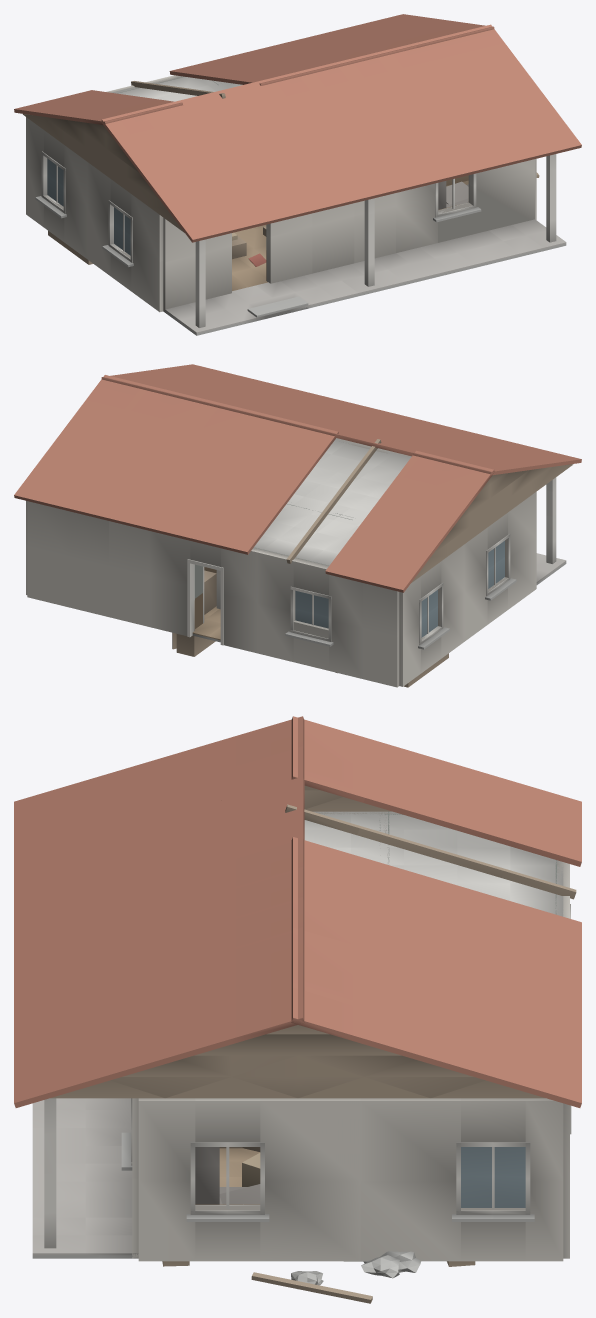
The model's file is casa_r10.glb.
3 renders of one model, top to bottom at view 1: azimuth 30°, elevation 25°; view 2: azimuth 150°, elevation 25°; view 3: azimuth 270°, elevation 25°, orthographic. The views are drawn at different scales.
Visible parts, largest first — view 1: longe, ext, dentro, detalhe, cama_quarto11; view 2: longe, ext, dentro, detalhe, guarda_roupa_quarto2; view 3: longe, ext, dentro, detalhe, cama_quarto11.
Boxes of the visible parts, x1=… form: longe: x1=14, y1=14, x2=581, y2=242; ext: x1=26, y1=75, x2=536, y2=312; dentro: x1=112, y1=76, x2=566, y2=335; detalhe: x1=35, y1=151, x2=556, y2=327; cama_quarto11: x1=446, y1=181, x2=468, y2=207; longe: x1=14, y1=364, x2=581, y2=592; ext: x1=26, y1=438, x2=536, y2=687; dentro: x1=192, y1=439, x2=566, y2=642; detalhe: x1=187, y1=477, x2=556, y2=649; guarda_roupa_quarto2: x1=172, y1=570, x2=216, y2=656; longe: x1=14, y1=716, x2=581, y2=1107; ext: x1=132, y1=811, x2=569, y2=1261; dentro: x1=32, y1=811, x2=563, y2=1258; detalhe: x1=44, y1=904, x2=571, y2=1303; cama_quarto11: x1=219, y1=1184, x2=260, y2=1204.
Size of what is drawn, in the model's own units: 13.62 by 5.61 by 9.63.
